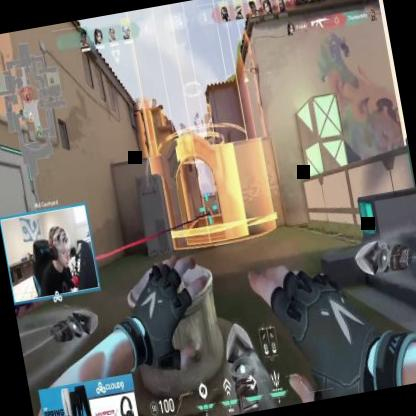enemy: (206, 205, 215, 227)
enemy_head: (206, 207, 210, 211)
